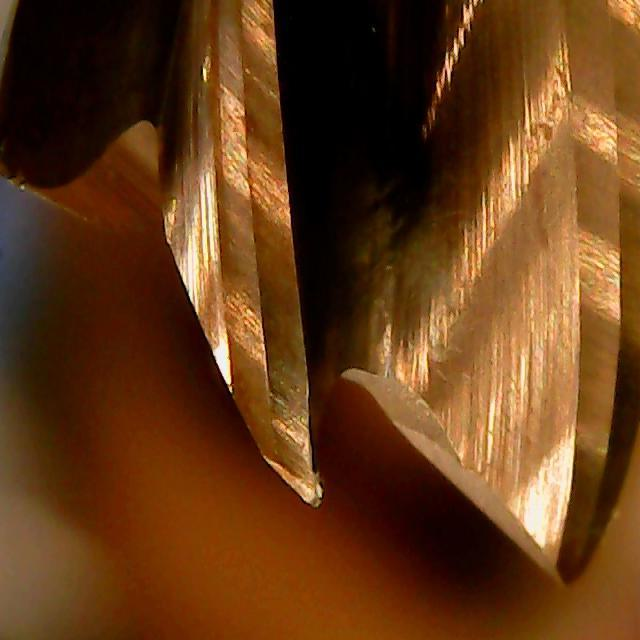Tool-wear-class-1: (227, 325, 333, 511)
